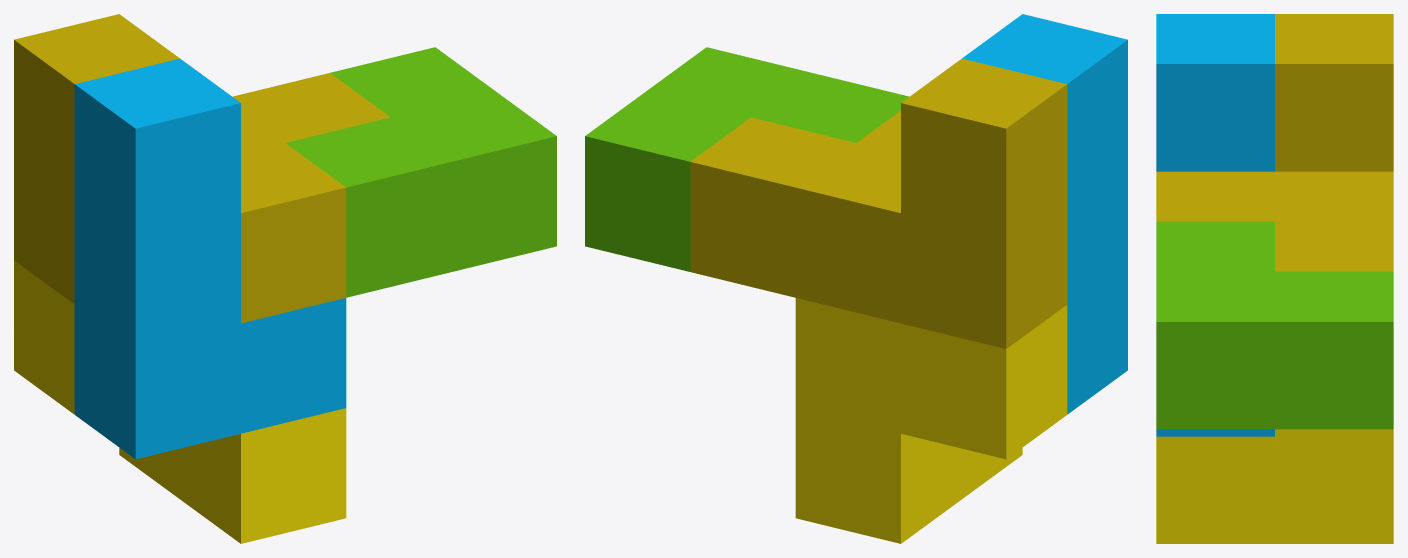
The picture shows the model from 3 angles, left to right: view 1: azimuth 30°, elevation 25°; view 2: azimuth 150°, elevation 25°; view 3: azimuth 270°, elevation 25°; orthographic projection. The views are drawn at different scales.
Parts seen in each view (by area): view 1: mergedBlocks(Clone); view 2: mergedBlocks(Clone); view 3: mergedBlocks(Clone).
Part boxes in pixels (x1,y1,x2,y2): mergedBlocks(Clone): (14,14,556,543); mergedBlocks(Clone): (585,14,1127,543); mergedBlocks(Clone): (1156,14,1393,543).
Bounding box in the file's own units: 4 × 4 × 2.
4 materials, 4 textured.
